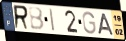2: (64, 10, 79, 35)
A: (98, 13, 116, 37)
B: (27, 7, 46, 32)
G: (82, 11, 97, 35)
I: (48, 8, 56, 33)
R: (13, 4, 30, 31)
